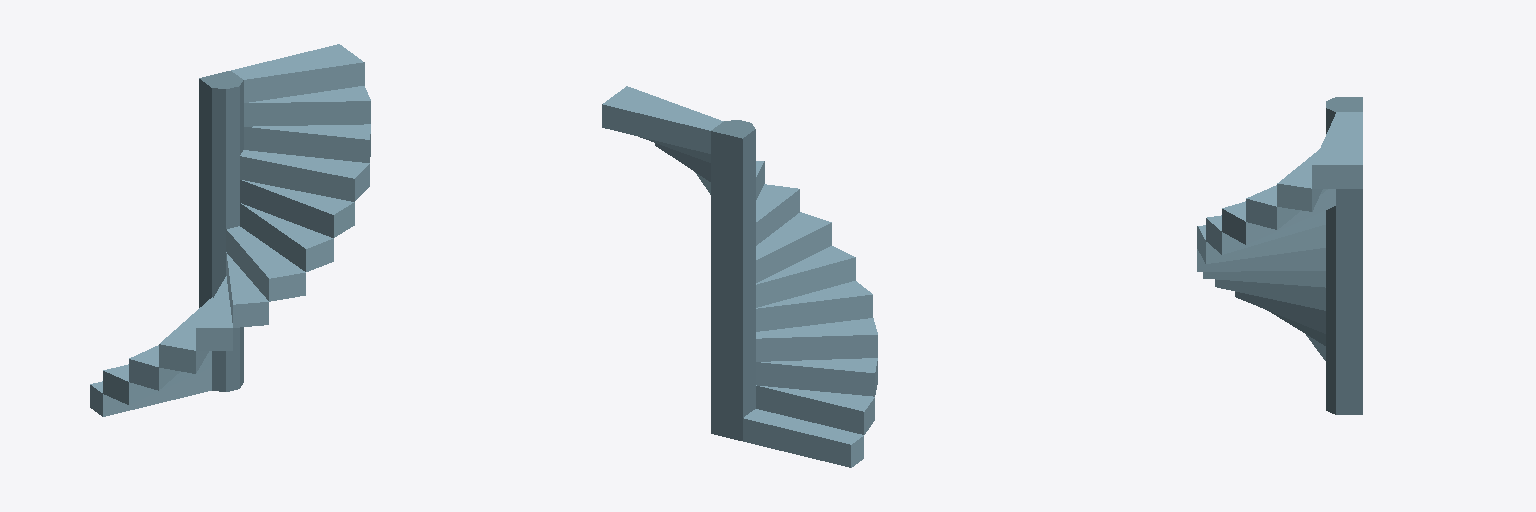
Rendered from stairsStoneRound.obj.
3 views of the same model, side by side, from view 1: azimuth 30°, elevation 25°; view 2: azimuth 150°, elevation 25°; view 3: azimuth 270°, elevation 25° (orthographic).
Visible parts, largest first — view 1: stairsStoneRound; view 2: stairsStoneRound; view 3: stairsStoneRound.
Part boxes in pixels (bbox=[...]): stairsStoneRound: bbox=[90, 44, 370, 416]; stairsStoneRound: bbox=[602, 86, 877, 467]; stairsStoneRound: bbox=[1197, 97, 1362, 414].
Size of the model in its own units: 0.862 by 1 by 0.494.